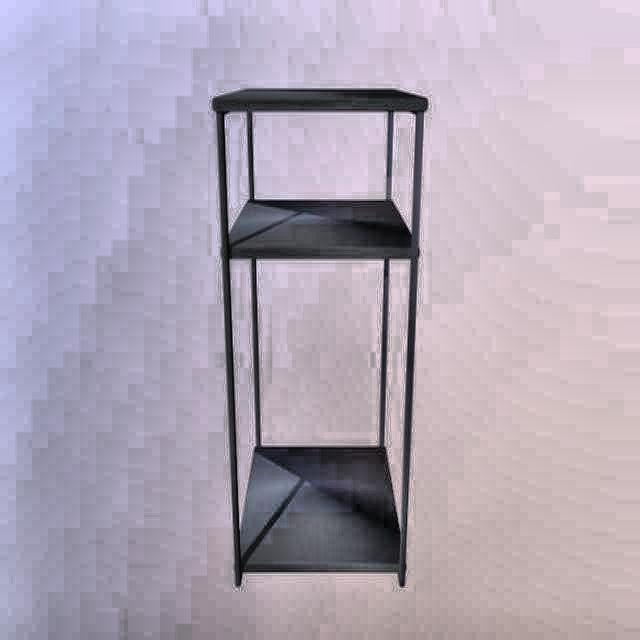mesa: (214, 89, 428, 588)
